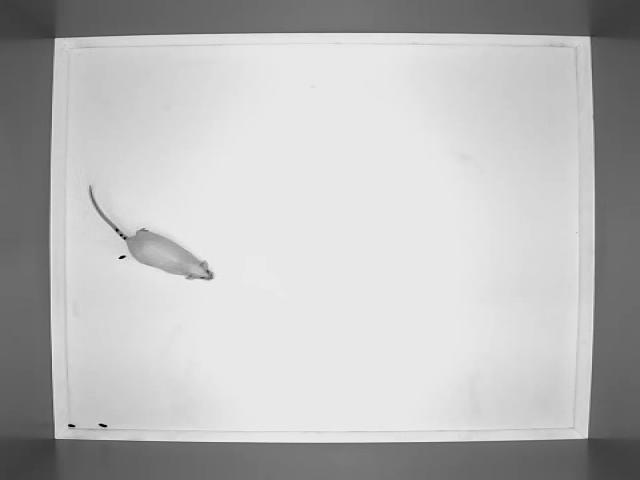Tikus: (83, 179, 219, 285)
